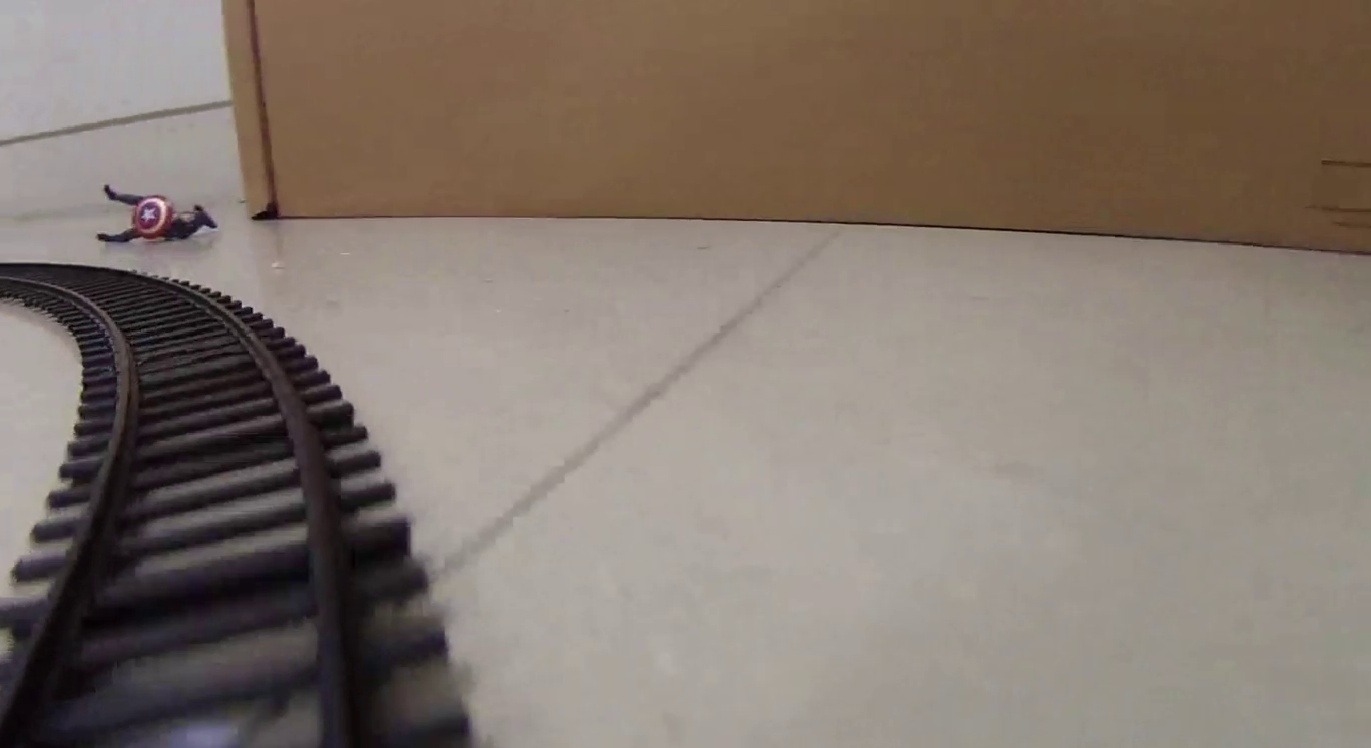people: (95, 184, 222, 249)
